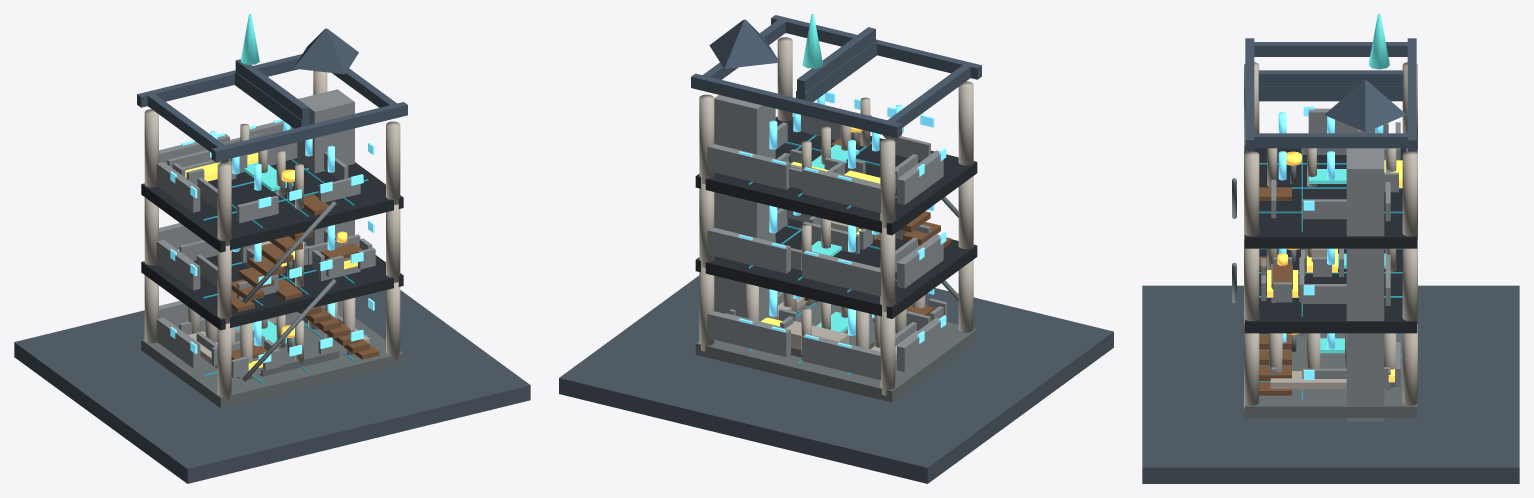
The picture shows the model from 3 angles, left to right: view 1: azimuth 30°, elevation 25°; view 2: azimuth 150°, elevation 25°; view 3: azimuth 270°, elevation 25°; orthographic projection. The views are drawn at different scales.
Visible parts, largest first — view 1: ProfileGround.017, BuildingFloor_3.008, BuildingFloor_2.012, BuildingFloor_1.012, BellTower_visual_temple, RoofEaveSouth_visual_temple, RoofEaveNorth_visual_temple, BellRoof_visual_temple, Nave_visual_temple, RoofRidge_visual_temple, RoofEaveWest_visual_temple, SideWall_2.012 (+21 smaller); view 2: ProfileGround.017, BuildingFloor_3.008, BuildingFloor_2.012, BellTower_visual_temple, BuildingFloor_1.012, RoofEaveNorth_visual_temple, RoofEaveSouth_visual_temple, BackWall_1_1.012, BackWall_2_1.012, BackWall_3_1.008, BackWall_2_-1.012, BackWall_3_-1.008 (+25 smaller); view 3: ProfileGround.017, BellTower_visual_temple, BuildingFloor_3.008, BuildingFloor_2.012, BuildingFloor_1.012, RoofEaveEast_visual_temple, RoofRidge_visual_temple, BellRoof_visual_temple, RoofEaveWest_visual_temple, NaveSpine_visual_temple, Column_3_1_-1.008, Column_3_1_1.008 (+21 smaller).
Part boxes in pixels (x1,y1,x2,y2): ProfileGround.017: (14,290,530,483); BuildingFloor_3.008: (141,158,403,252); BuildingFloor_2.012: (141,245,403,330); BuildingFloor_1.012: (141,318,403,408); BellTower_visual_temple: (297,89,354,323); RoofEaveSouth_visual_temple: (211,102,407,161); RoofEaveNorth_visual_temple: (137,54,302,107); BellRoof_visual_temple: (293,28,358,74); Nave_visual_temple: (235,320,339,376); RoofRidge_visual_temple: (235,59,309,121); RoofEaveWest_visual_temple: (147,94,224,152); SideWall_2.012: (156,239,200,290); ProfileGround.017: (559,275,1113,483); BuildingFloor_3.008: (695,116,977,235); BuildingFloor_2.012: (695,218,977,318); BellTower_visual_temple: (714,95,775,321); BuildingFloor_1.012: (695,291,977,402); RoofEaveNorth_visual_temple: (691,73,901,138); RoofEaveSouth_visual_temple: (771,15,981,79); BackWall_1_1.012: (707,311,790,357); BackWall_2_1.012: (707,227,790,273); BackWall_3_1.008: (707,144,790,189); BackWall_2_-1.012: (802,250,880,296); BackWall_3_-1.008: (802,166,880,212); ProfileGround.017: (1142,285,1519,483); BellTower_visual_temple: (1346,148,1384,421); BuildingFloor_3.008: (1244,145,1417,248); BuildingFloor_2.012: (1244,249,1417,333); BuildingFloor_1.012: (1244,334,1417,417); RoofEaveEast_visual_temple: (1254,133,1408,148); RoofRidge_visual_temple: (1258,70,1403,86); BellRoof_visual_temple: (1324,80,1406,132); RoofEaveWest_visual_temple: (1253,42,1407,56); NaveSpine_visual_temple: (1258,86,1403,101); Column_3_1_-1.008: (1244,151,1259,239); Column_3_1_1.008: (1402,151,1417,239).
Size of the model in its own units: 4.8 by 4.65 by 4.2.
